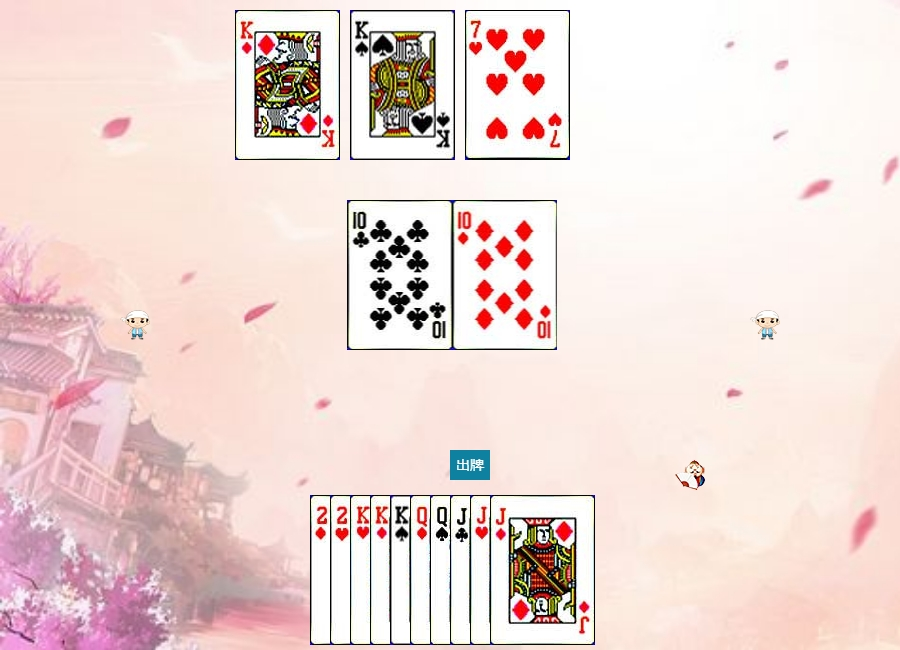10~1: (453, 200, 558, 350)
10~2: (348, 200, 453, 350)
11~1: (490, 495, 595, 645)
11~2: (450, 495, 555, 645)
11~3: (470, 495, 575, 645)
12~1: (410, 495, 515, 645)
12~4: (430, 495, 535, 645)
13~1: (235, 10, 340, 160), (370, 495, 475, 645)
13~3: (350, 495, 455, 645)
13~4: (350, 10, 455, 160), (390, 495, 495, 645)
15~1: (310, 495, 415, 645)
15~3: (330, 495, 435, 645)
7~3: (465, 10, 570, 160)
